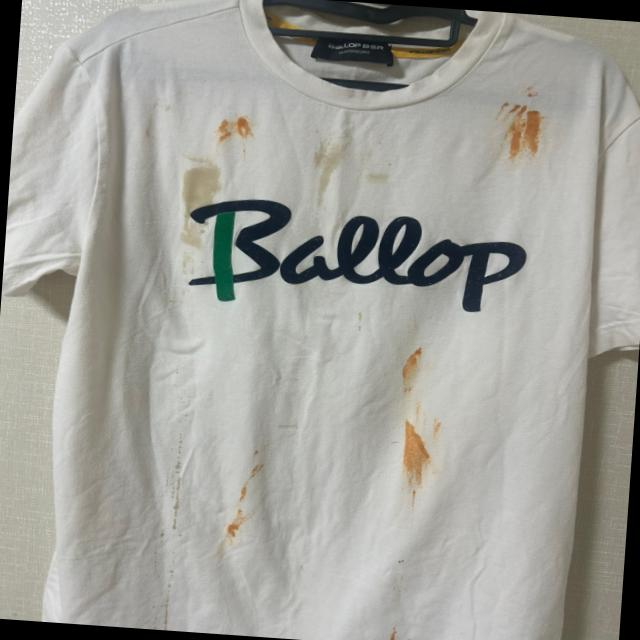stain: (393, 406, 457, 506), (222, 454, 274, 544), (494, 86, 551, 166), (160, 436, 198, 540), (178, 154, 218, 252), (308, 138, 351, 208), (395, 342, 436, 396), (214, 113, 254, 148), (160, 564, 180, 630), (367, 164, 390, 190), (380, 628, 412, 640), (394, 556, 408, 572)
